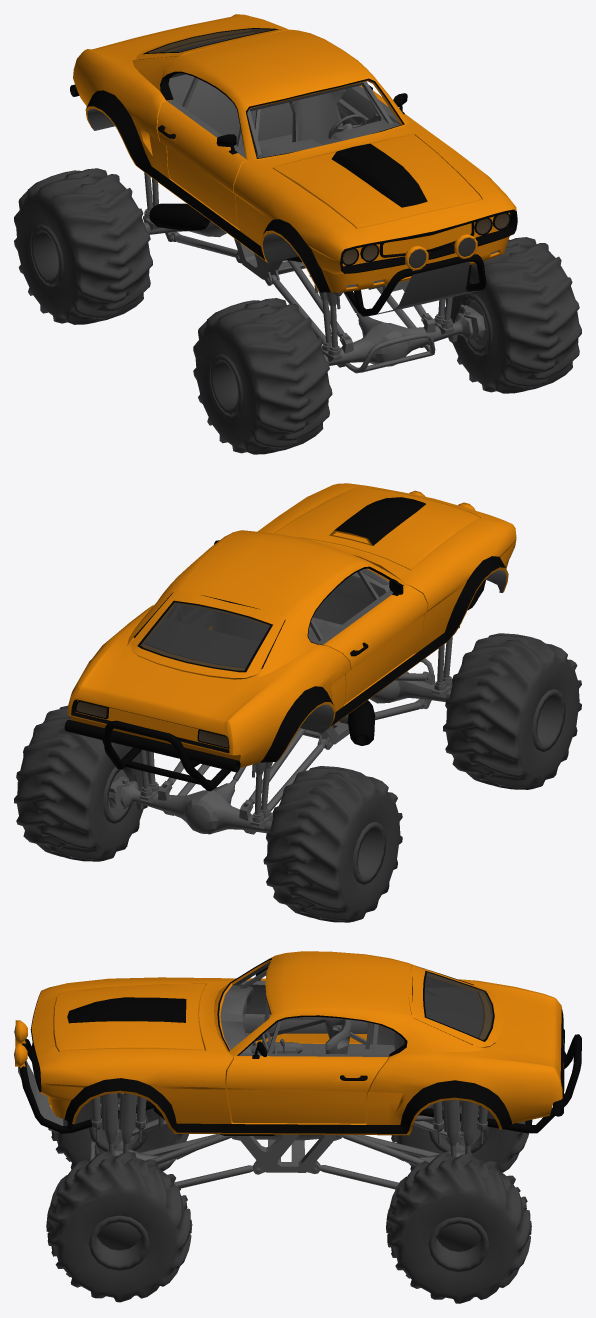
Rendered from Main_Body_Car_.fbx.
The picture shows the model from 3 angles, top to bottom: view 1: azimuth 30°, elevation 25°; view 2: azimuth 150°, elevation 25°; view 3: azimuth 270°, elevation 25°; orthographic projection. The views are drawn at different scales.
Visible parts, largest first — view 1: MainBody:MainBody_2, TireFL_2, TireFL_1, TireFL_0, MainBody:MainBody_4, polySurface29, MainBody:MainBody_1, MainBody:MainBody_3, MainBody:MainBody_0, MainBody:MainBody_5; view 2: MainBody:MainBody_2, TireFL_2, TireFL_1, TireFL:TireFL_0, MainBody:MainBody_4, MainBody:MainBody_1, MainBody:MainBody_5, polySurface29, MainBody:MainBody_0; view 3: MainBody:MainBody_2, TireFL:TireFL_0, TireFL_0, MainBody:MainBody_4, polySurface29, MainBody:MainBody_1, MainBody:MainBody_5, TireFL_2, TireFL_1, MainBody:MainBody_3.
Boxes of the visible parts, x1,y1,x2,y2 form: MainBody:MainBody_2: [73, 14, 517, 292]; TireFL_2: [14, 168, 152, 324]; TireFL_1: [193, 298, 332, 454]; TireFL_0: [444, 237, 581, 393]; MainBody:MainBody_4: [87, 73, 497, 373]; polySurface29: [167, 74, 400, 158]; MainBody:MainBody_1: [70, 28, 510, 316]; MainBody:MainBody_3: [366, 261, 477, 316]; MainBody:MainBody_0: [343, 213, 509, 268]; MainBody:MainBody_5: [148, 29, 272, 52]; MainBody:MainBody_2: [67, 483, 516, 767]; TireFL_2: [263, 766, 402, 922]; TireFL_1: [443, 633, 581, 789]; TireFL:TireFL_0: [14, 705, 149, 861]; MainBody:MainBody_4: [108, 569, 506, 834]; MainBody:MainBody_1: [64, 540, 485, 791]; MainBody:MainBody_5: [140, 602, 270, 670]; polySurface29: [308, 568, 403, 645]; MainBody:MainBody_0: [76, 702, 228, 747]; MainBody:MainBody_2: [15, 951, 563, 1135]; TireFL:TireFL_0: [386, 1153, 531, 1303]; TireFL_0: [46, 1151, 192, 1302]; MainBody:MainBody_4: [89, 969, 488, 1189]; polySurface29: [220, 962, 404, 1056]; MainBody:MainBody_1: [19, 958, 581, 1135]; MainBody:MainBody_5: [424, 972, 492, 1040]; TireFL_2: [391, 1106, 528, 1172]; TireFL_1: [48, 1099, 188, 1171]; MainBody:MainBody_3: [18, 1061, 63, 1132].
Size of the model in its own units: 30.67 by 24.92 by 49.1.
